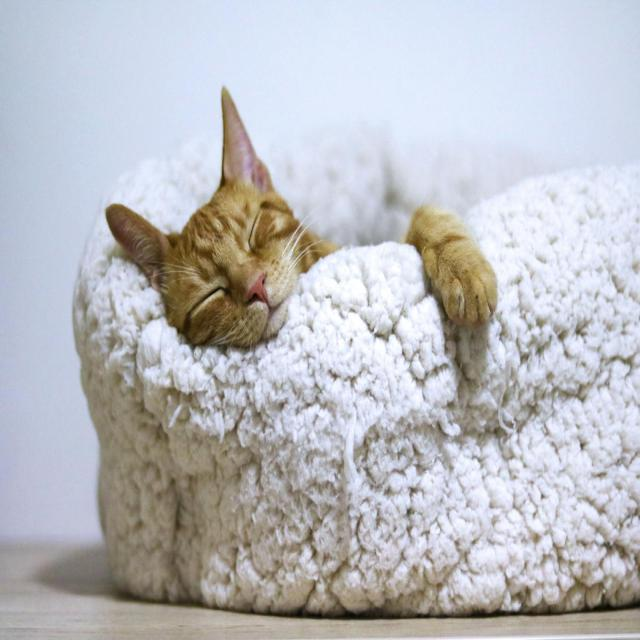Cat: (104, 84, 498, 351)
